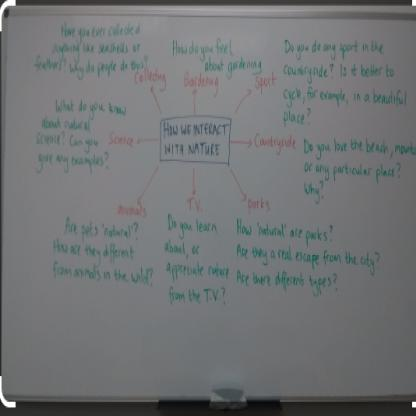Handwritten text: (233, 240, 381, 277), (231, 266, 335, 299), (232, 215, 332, 246), (48, 233, 138, 267), (280, 85, 411, 108), (279, 59, 400, 83), (48, 259, 150, 287), (282, 36, 389, 61), (31, 147, 107, 182), (299, 134, 416, 156), (301, 158, 397, 182), (61, 212, 136, 242), (30, 128, 104, 157), (161, 255, 231, 284), (52, 92, 129, 117), (163, 208, 222, 240), (168, 32, 237, 58), (66, 57, 143, 80), (57, 21, 145, 41), (48, 38, 146, 55), (160, 116, 230, 137), (164, 284, 222, 308), (200, 57, 266, 78), (160, 139, 223, 161), (252, 128, 297, 158), (36, 112, 97, 133), (180, 67, 220, 97), (160, 236, 202, 260), (131, 67, 169, 91), (112, 201, 150, 222), (107, 126, 138, 151), (245, 191, 273, 215), (299, 183, 320, 208), (278, 108, 305, 127), (253, 74, 278, 92), (182, 193, 203, 213)
Whiteboard: (7, 9, 416, 399)
